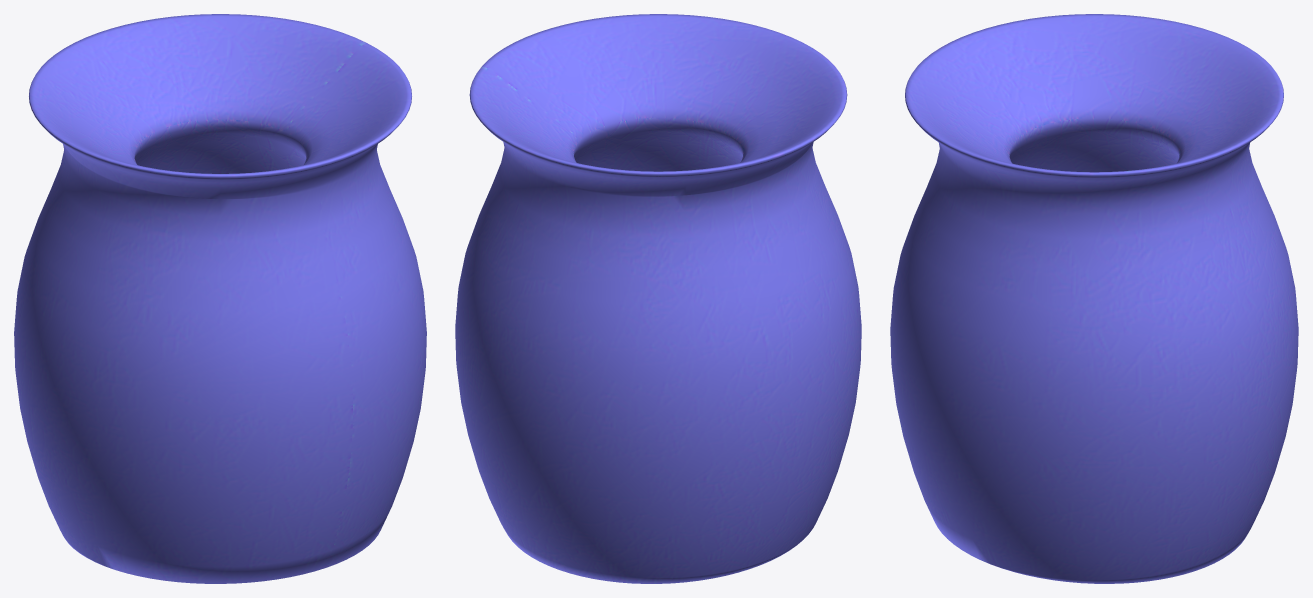
Rendered from vase top collider.fbx.
The picture shows the model from 3 angles, left to right: view 1: azimuth 30°, elevation 25°; view 2: azimuth 150°, elevation 25°; view 3: azimuth 270°, elevation 25°; orthographic projection.
Parts seen in each view (by area): view 1: Pot; view 2: Pot; view 3: Pot.
Boxes of the visible parts, x1,y1,x2,y2 form: Pot: (14,14,426,583); Pot: (455,14,861,583); Pot: (890,14,1298,583).
Size of the model in its own units: 70.56 by 81.6 by 70.56.
1 material, 1 textured.
